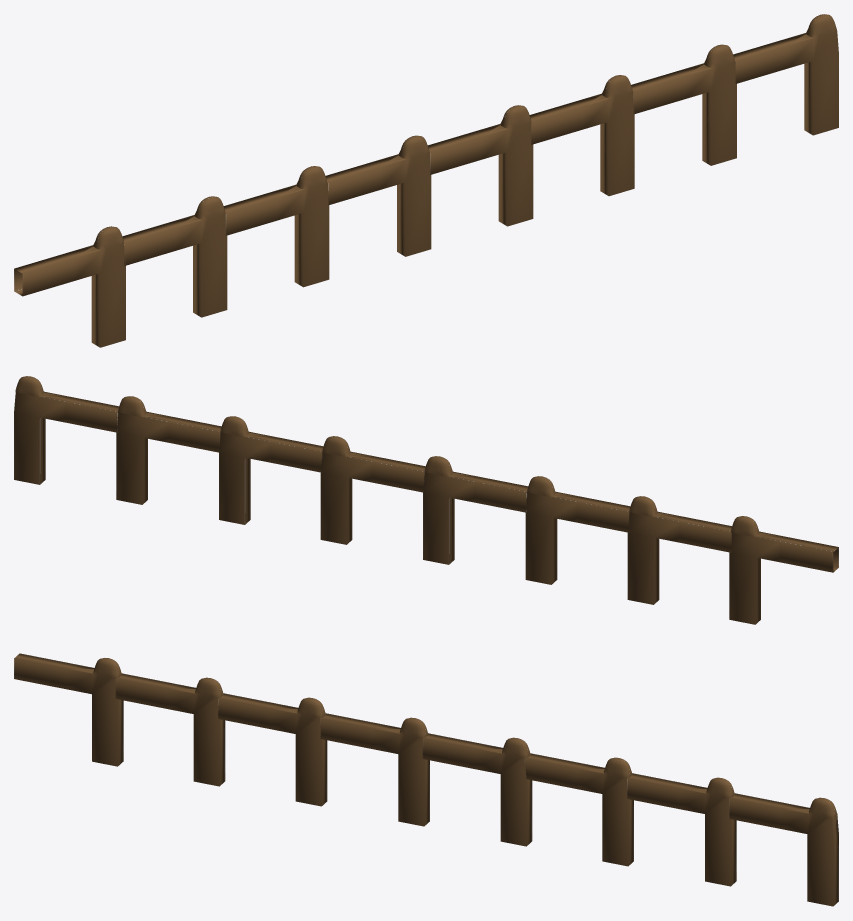
3 renders of one model, top to bottom at view 1: azimuth 30°, elevation 25°; view 2: azimuth 150°, elevation 25°; view 3: azimuth 330°, elevation 25°, orthographic. The views are drawn at different scales.
Parts seen in each view (by area): view 1: rail7, rail5, rail3, rail, rail2, rail1, rail4, rail6; view 2: rail7, rail5, rail6, rail3, rail4, rail, rail2, rail1; view 3: rail, rail3, rail5, rail6, rail1, rail4, rail2, rail7.
Part boxes in pixels (x1,y1,x2,y2): rail7: [14, 226, 125, 347]; rail5: [223, 166, 329, 287]; rail3: [427, 105, 533, 226]; rail: [733, 14, 838, 135]; rail2: [529, 75, 634, 196]; rail1: [631, 44, 736, 165]; rail4: [325, 135, 431, 256]; rail6: [122, 196, 227, 317]; rail7: [729, 516, 838, 624]; rail5: [525, 476, 630, 584]; rail6: [627, 496, 731, 604]; rail3: [320, 436, 425, 544]; rail4: [423, 456, 528, 564]; rail: [14, 376, 118, 484]; rail2: [219, 416, 323, 524]; rail1: [116, 396, 221, 504]; rail: [729, 793, 838, 906]; rail3: [422, 733, 532, 846]; rail5: [218, 693, 327, 806]; rail6: [115, 673, 225, 786]; rail1: [627, 773, 736, 886]; rail4: [320, 713, 429, 826]; rail2: [524, 753, 633, 866]; rail7: [14, 653, 123, 766].
Bounding box in the file's own units: 39.87 × 5.03 × 4.2.
